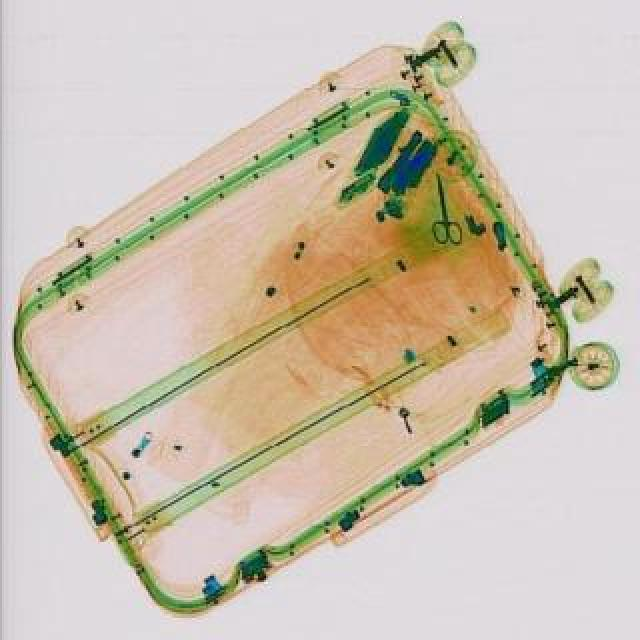pliers: (422, 168, 462, 244)
